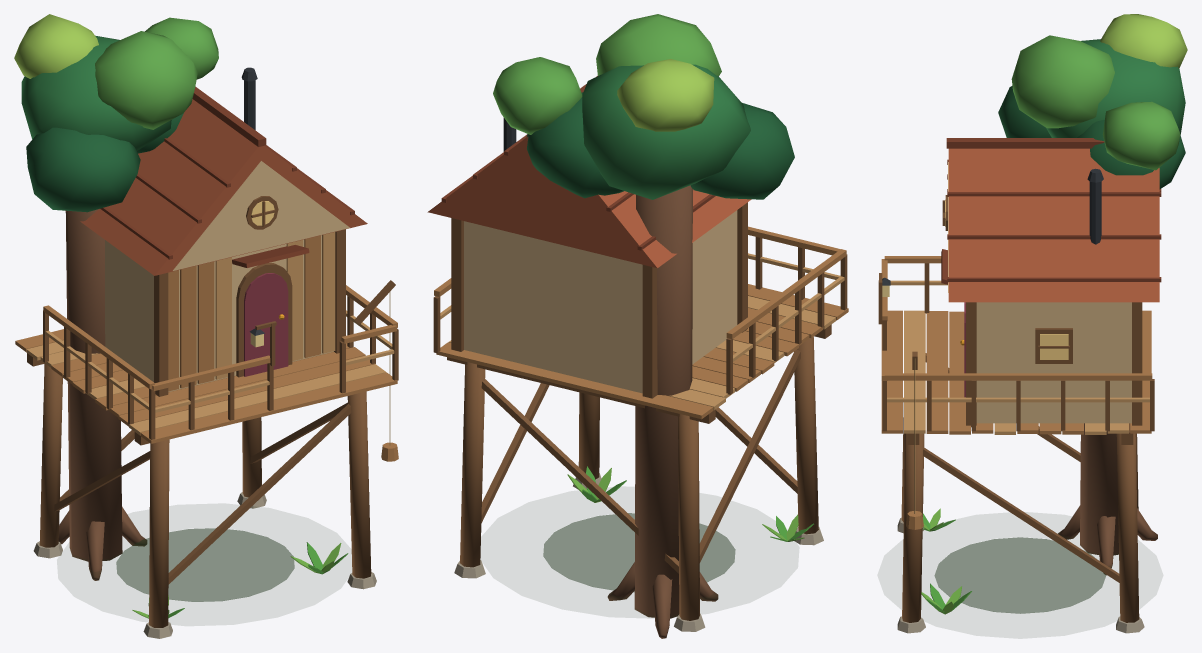
Rendered from treehouse.glb.
The picture shows the model from 3 angles, left to right: view 1: azimuth 30°, elevation 25°; view 2: azimuth 150°, elevation 25°; view 3: azimuth 270°, elevation 25°; orthographic projection. The views are drawn at different scales.
Visible parts, largest first — view 1: treehouse; view 2: treehouse; view 3: treehouse.
Boxes of the visible parts, x1,y1,x2,y2 form: treehouse: [14, 14, 398, 638]; treehouse: [427, 14, 848, 638]; treehouse: [878, 14, 1187, 633].
Size of the model in its own units: 4.49 by 7.71 by 4.12.
